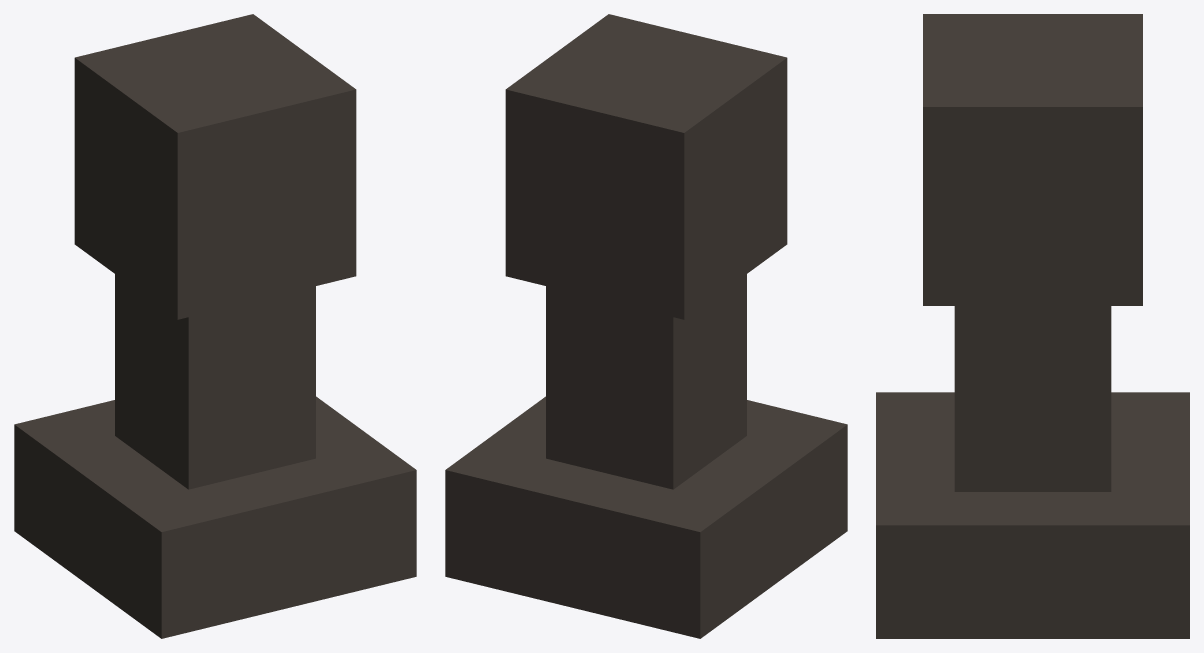
The model's file is blackPawnModel.obj.
The picture shows the model from 3 angles, left to right: view 1: azimuth 30°, elevation 25°; view 2: azimuth 150°, elevation 25°; view 3: azimuth 270°, elevation 25°; orthographic projection. The views are drawn at different scales.
Visible parts, largest first — view 1: cuboid; view 2: cuboid; view 3: cuboid.
Part boxes in pixels (x1,y1,x2,y2): cuboid: (14, 14, 416, 638); cuboid: (445, 14, 847, 638); cuboid: (876, 14, 1189, 638).
Bounding box in the file's own units: 0.625 × 1.12 × 0.625.
1 material, 1 textured.
